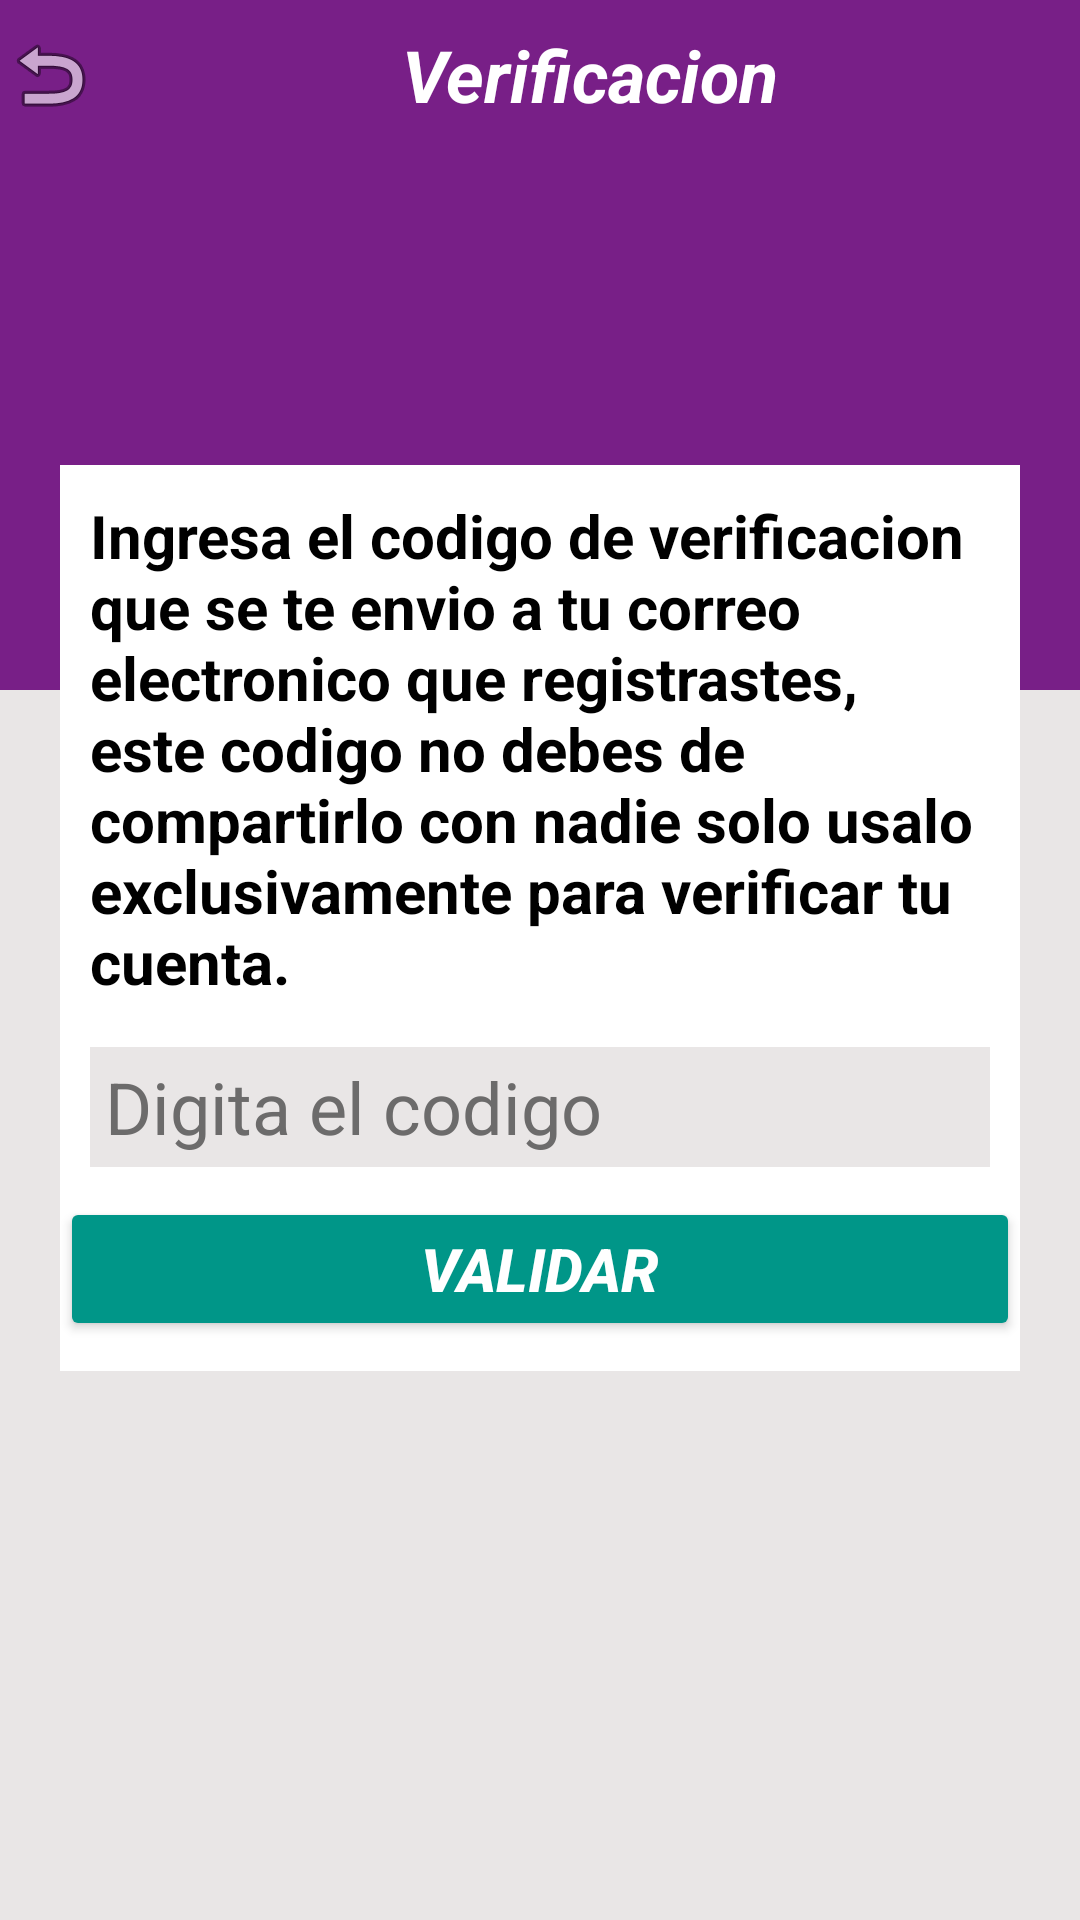

Screen size 1080px×1920px. Icon name, then its center in pixels as point (x, y):
revert: point (51, 76)
